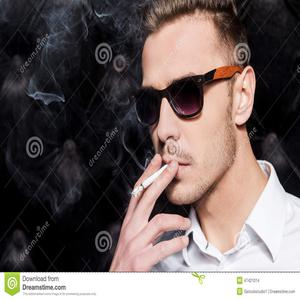cigarette: (129, 163, 168, 198)
